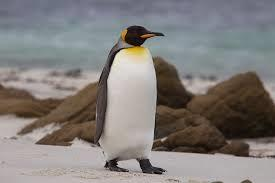king: (85, 16, 177, 170)
